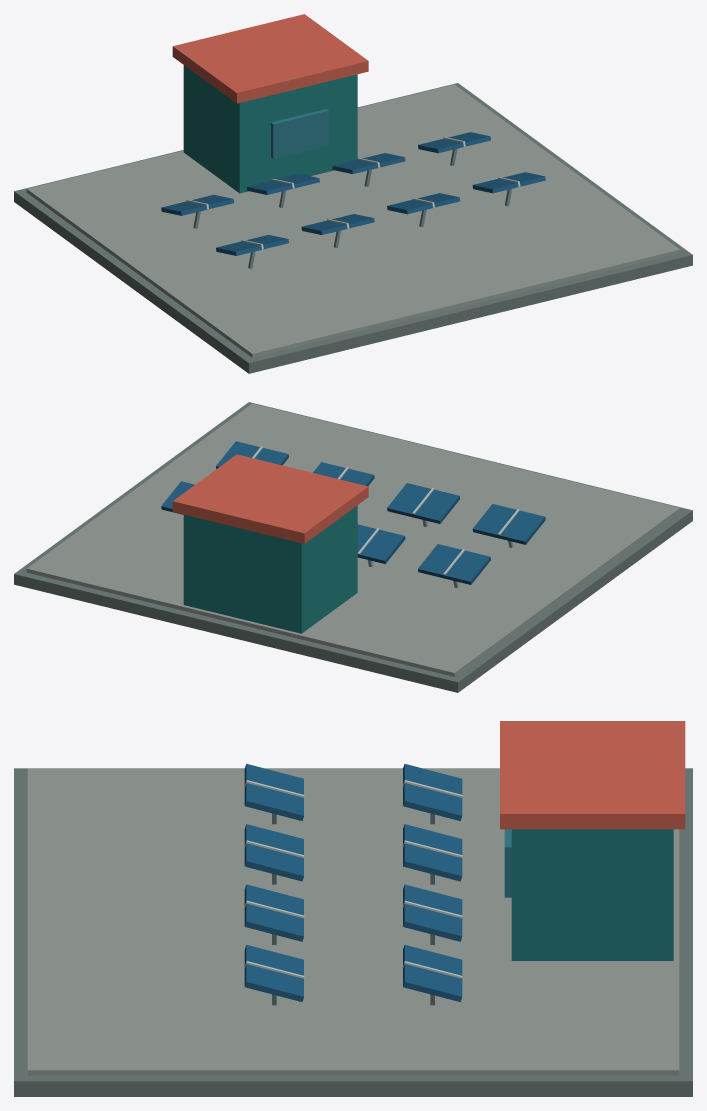
The model's file is solar_lv2.glb.
3 views of the same model, one above another, from view 1: azimuth 30°, elevation 25°; view 2: azimuth 150°, elevation 25°; view 3: azimuth 270°, elevation 25° (orthographic). The views are drawn at different scales.
Visible parts, largest first — view 1: rough, metallic, glossy; view 2: rough, metallic; view 3: rough, metallic.
Part boxes in pixels (bbox=[...]): rough: bbox=[14, 14, 692, 373]; metallic: bbox=[161, 132, 545, 268]; glossy: bbox=[271, 109, 328, 158]; rough: bbox=[14, 402, 692, 692]; metallic: bbox=[161, 441, 545, 587]; rough: bbox=[14, 721, 692, 1096]; metallic: bbox=[244, 763, 462, 1005].
Size of the model in its own units: 9.6 by 2.47 by 8.8.
